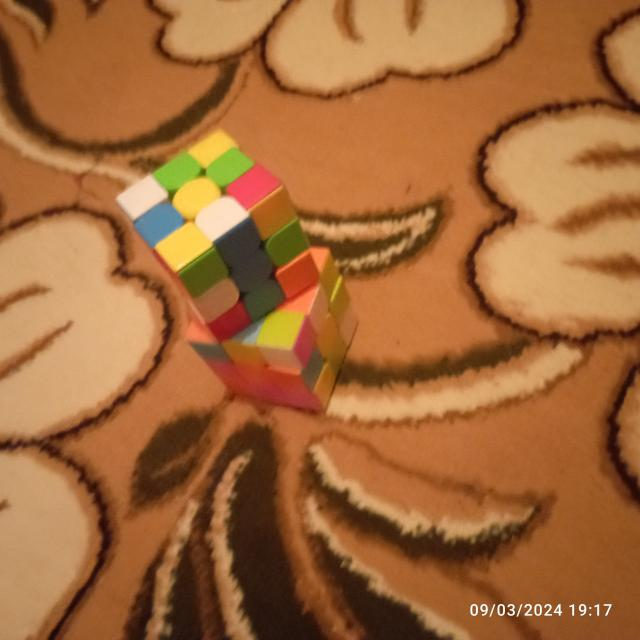Rub: (110, 126, 324, 344), (174, 235, 363, 417)
